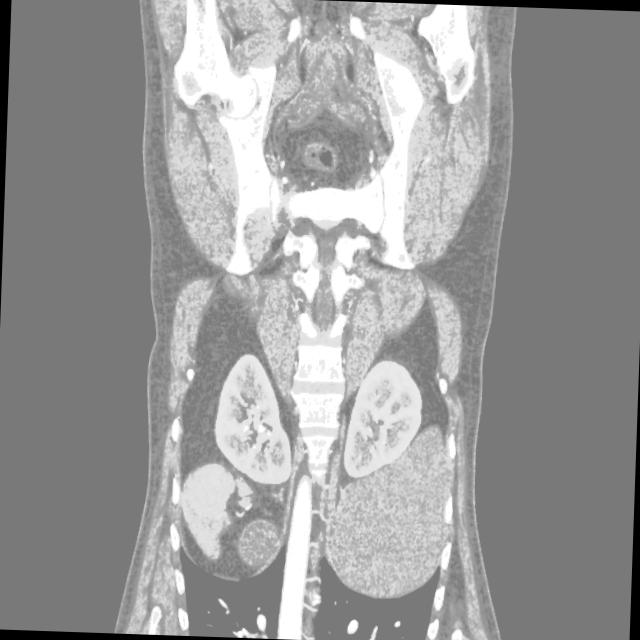NORMAL: (76, 92, 535, 603)
